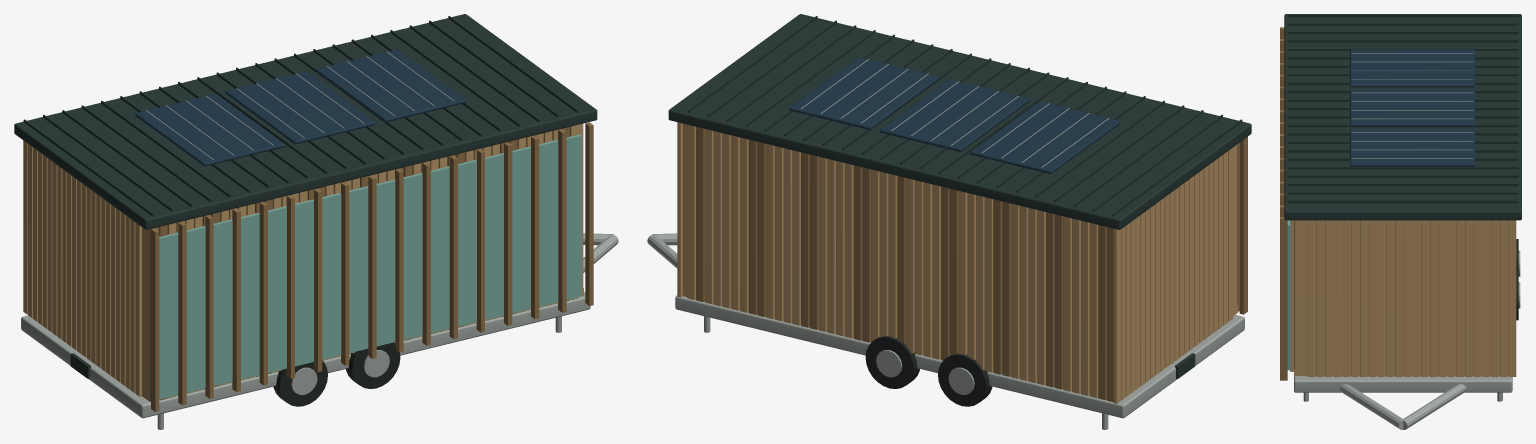
The model's file is tiny_anna.glb.
The picture shows the model from 3 angles, left to right: view 1: azimuth 30°, elevation 25°; view 2: azimuth 150°, elevation 25°; view 3: azimuth 270°, elevation 25°; orthographic projection. The views are drawn at different scales.
Visible parts, largest first — view 1: Posuvný prosklený plášť, Falcovaná střecha, Vlemmix pozinkovaný rám, Solární modul, Solární modul.002, Solární modul.001, Izolovaný plášť, Biofilní žebro.001, Biofilní žebro.004, Biofilní žebro.007, Biofilní žebro.009, Biofilní žebro.010 (+49 smaller); view 2: Falcovaná střecha, Vlemmix pozinkovaný rám, Solární modul, Solární modul.002, Solární modul.001, Svislé modřínové palubky.026, Svislé modřínové palubky.042, Svislé modřínové palubky.044, Svislé modřínové palubky.028, Svislé modřínové palubky.060, Svislé modřínové palubky.074, Svislé modřínové palubky.090 (+83 smaller); view 3: Falcovaná střecha, Izolovaný plášť, Solární modul, Solární modul.001, Solární modul.002, Vlemmix pozinkovaný rám, Boční obklad.001, Boční obklad.009, Boční obklad.017, Boční obklad.025, Boční obklad.033, Boční obklad.041 (+50 smaller).
Boxes of the visible parts, <box> form: Posuvný prosklený plášť: <box>159,134,581,399</box>; Falcovaná střecha: <box>14,14,597,229</box>; Vlemmix pozinkovaný rám: <box>21,292,590,418</box>; Solární modul: <box>135,93,284,166</box>; Solární modul.002: <box>316,49,465,122</box>; Solární modul.001: <box>225,71,375,144</box>; Izolovaný plášť: <box>142,123,583,399</box>; Biofilní žebro.001: <box>178,221,186,405</box>; Biofilní žebro.004: <box>259,201,267,385</box>; Biofilní žebro.007: <box>341,182,349,365</box>; Biofilní žebro.009: <box>395,168,403,352</box>; Biofilní žebro.010: <box>422,162,430,345</box>; Falcovaná střecha: <box>668,14,1251,229</box>; Vlemmix pozinkovaný rám: <box>675,295,1244,418</box>; Solární modul: <box>970,101,1120,173</box>; Solární modul.002: <box>789,57,939,129</box>; Solární modul.001: <box>880,79,1029,151</box>; Svislé modřínové palubky.026: <box>993,199,1002,374</box>; Svislé modřínové palubky.042: <box>923,182,932,357</box>; Svislé modřínové palubky.044: <box>914,180,923,355</box>; Svislé modřínové palubky.028: <box>984,197,993,372</box>; Svislé modřínové palubky.060: <box>844,163,853,338</box>; Svislé modřínové palubky.074: <box>783,148,792,323</box>; Svislé modřínové palubky.090: <box>713,131,722,306</box>; Falcovaná střecha: <box>1284,14,1521,220</box>; Izolovaný plášť: <box>1294,220,1508,374</box>; Solární modul: <box>1350,49,1474,87</box>; Solární modul.001: <box>1350,89,1474,126</box>; Solární modul.002: <box>1350,129,1474,166</box>; Vlemmix pozinkovaný rám: <box>1294,376,1512,392</box>; Boční obklad.001: <box>1508,220,1516,376</box>; Boční obklad.009: <box>1473,220,1481,376</box>; Boční obklad.017: <box>1438,220,1446,376</box>; Boční obklad.025: <box>1403,220,1411,376</box>; Boční obklad.033: <box>1368,220,1376,376</box>; Boční obklad.041: <box>1333,220,1341,376</box>.
Bounding box in the file's own units: 8.9 × 3.7 × 3.87.
